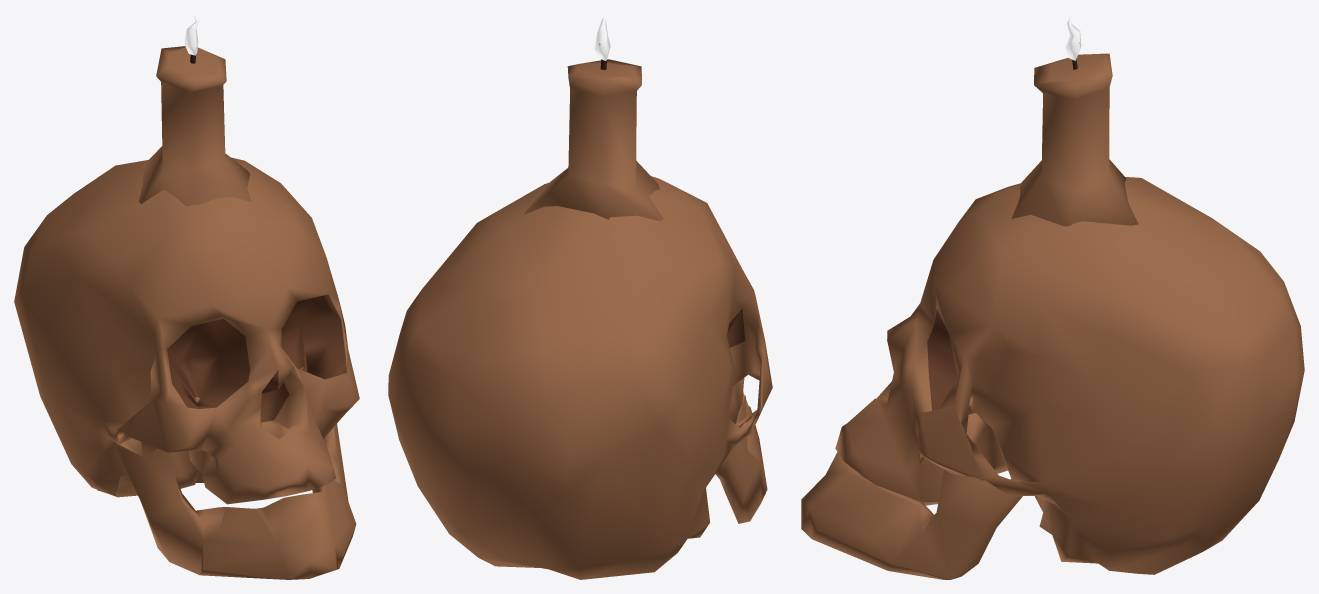
File: CandleSkullShapeB.001.glb
The picture shows the model from 3 angles, left to right: view 1: azimuth 30°, elevation 25°; view 2: azimuth 150°, elevation 25°; view 3: azimuth 270°, elevation 25°; orthographic projection. The views are drawn at different scales.
Visible parts, largest first — view 1: CandleSkullShapeB.001; view 2: CandleSkullShapeB.001; view 3: CandleSkullShapeB.001.
Boxes of the visible parts, x1,y1,x2,y2 form: CandleSkullShapeB.001: (14, 14, 359, 579); CandleSkullShapeB.001: (388, 14, 772, 579); CandleSkullShapeB.001: (801, 14, 1304, 579).
Size of the model in its own units: 0.2005 by 0.3649 by 0.3132.
2 materials, 2 textured.
